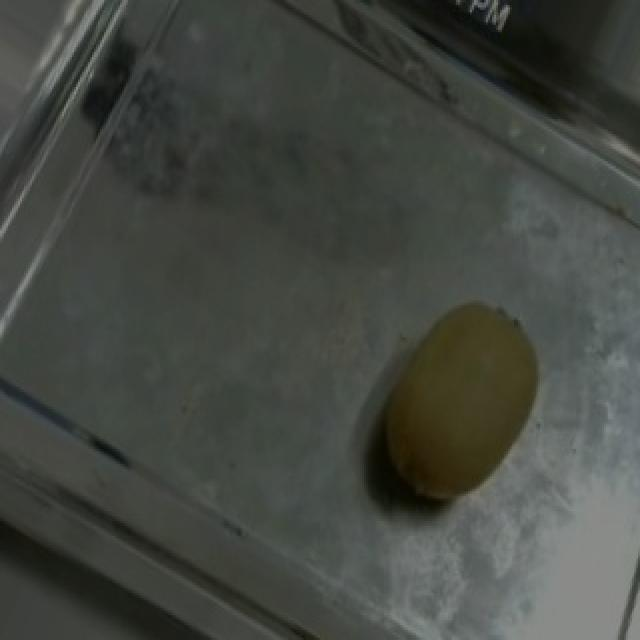Fruit: (334, 273, 578, 541)
